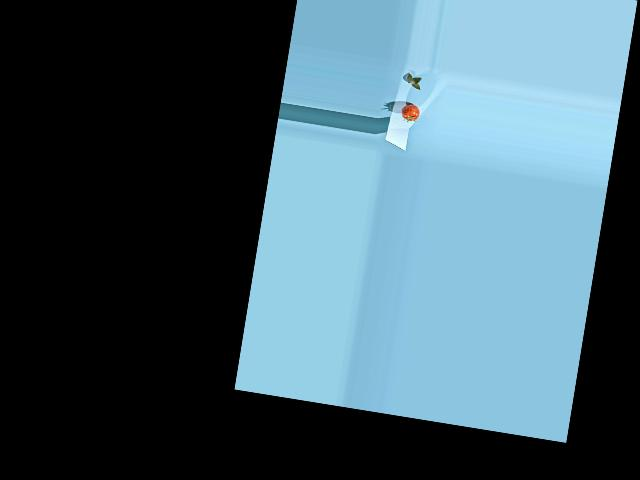tomato: (400, 103, 420, 122)
